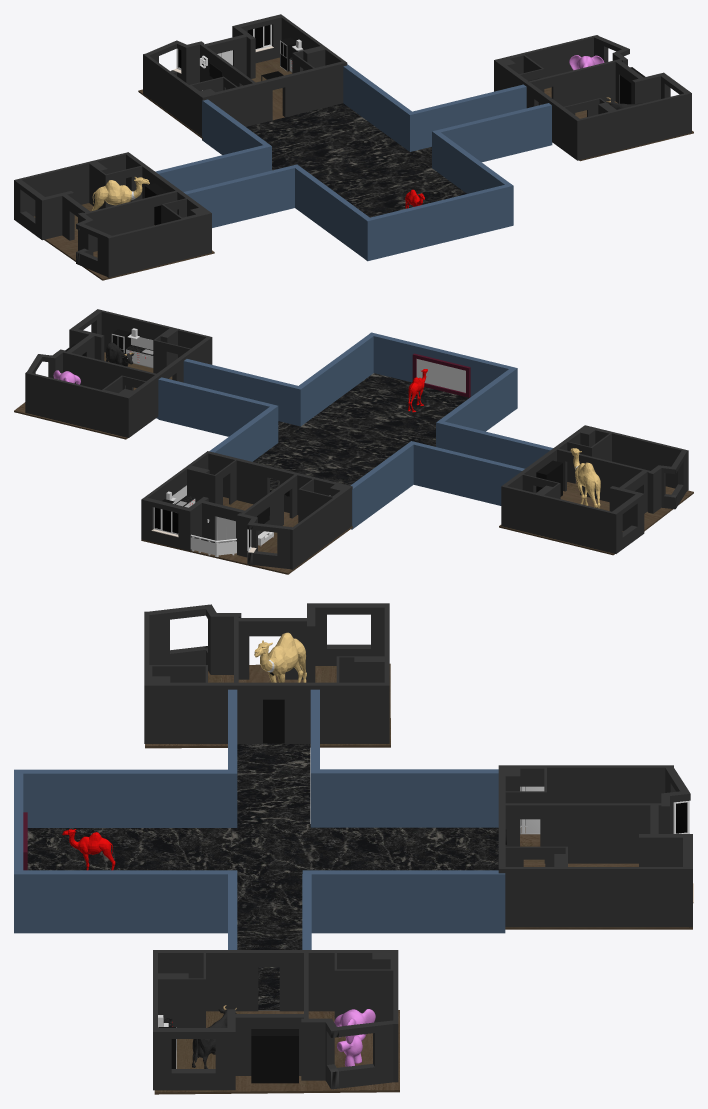
File: apartment_floor.gltf
3 renders of one model, top to bottom at view 1: azimuth 30°, elevation 25°; view 2: azimuth 150°, elevation 25°; view 3: azimuth 270°, elevation 25°, orthographic. The views are drawn at different scales.
Parts seen in each view (by area): view 1: Hallway, Wallls.003, Wallls.002, Wallls.001, Cube.010, camel_b, Cube.007, Window.002; view 2: Hallway, Wallls.003, Wallls.001, Wallls.002, Cube.012, Cube.010, Cube.007, camel_b, Window.002, Plane.001, Cube.006, Cube.055 (+2 smaller); view 3: Hallway, Wallls.001, Wallls.002, Wallls.003, Cube.006, Cube.009, Cube.007, camel_b, Cube.010, elephant, Cube.055, camel_b.001.
Part boxes in pixels (left/top/right/bottom): Hallway: left=155, top=64, right=552, bottom=261; Wallls.003: left=14, top=152, right=211, bottom=277; Wallls.002: left=494, top=35, right=691, bottom=160; Wallls.001: left=143, top=14, right=347, bottom=136; Cube.010: left=138, top=57, right=292, bottom=138; camel_b: left=92, top=177, right=149, bottom=210; Cube.007: left=34, top=201, right=214, bottom=280; Window.002: left=247, top=24, right=273, bottom=51; Hallway: left=156, top=332, right=553, bottom=529; Wallls.003: left=501, top=425, right=688, bottom=553; Wallls.001: left=141, top=451, right=352, bottom=569; Wallls.002: left=25, top=309, right=212, bottom=437; Cube.012: left=412, top=353, right=470, bottom=397; Cube.010: left=141, top=497, right=352, bottom=574; Cube.007: left=499, top=480, right=693, bottom=555; camel_b: left=570, top=448, right=600, bottom=508; Window.002: left=151, top=507, right=178, bottom=537; Plane.001: left=190, top=537, right=236, bottom=555; Cube.006: left=14, top=352, right=172, bottom=439; Cube.055: left=536, top=460, right=562, bottom=496; Hallway: left=14, top=689, right=505, bottom=1010; Wallls.001: left=498, top=765, right=692, bottom=927; Wallls.002: left=153, top=950, right=398, bottom=1090; Wallls.003: left=144, top=603, right=389, bottom=743; Cube.006: left=154, top=1010, right=399, bottom=1094; Cube.009: left=251, top=1029, right=298, bottom=1083; Cube.007: left=145, top=663, right=390, bottom=748; camel_b: left=254, top=632, right=306, bottom=682; Cube.010: left=505, top=827, right=692, bottom=929; elephant: left=334, top=1009, right=375, bottom=1066; Cube.055: left=263, top=699, right=284, bottom=743; camel_b.001: left=62, top=829, right=115, bottom=870.
Size of the model in its own units: 42.75 by 3.82 by 28.54.
Materials: 46 (3 with a texture image).
